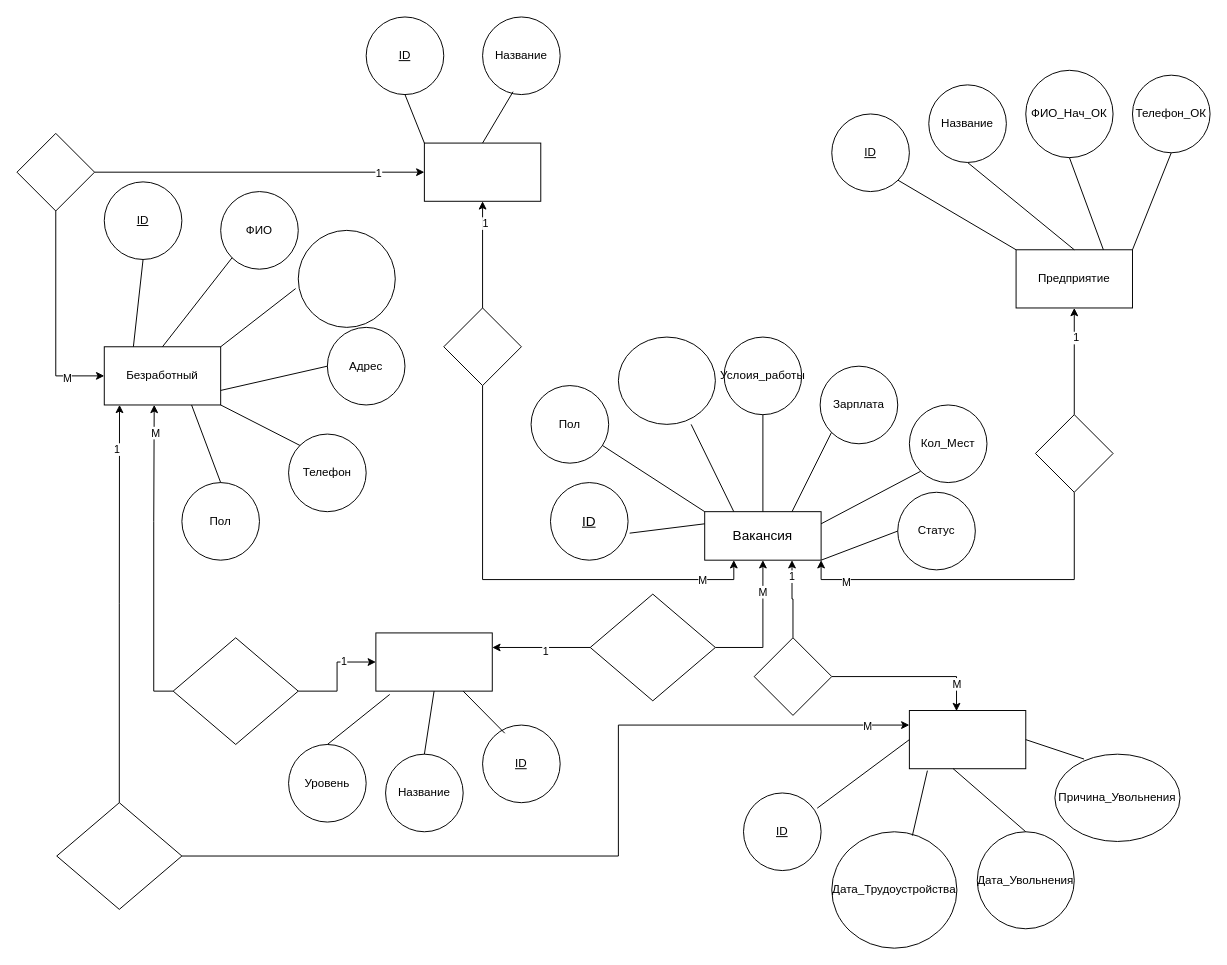
Image size: 1227x965. Some labels were removed from this diagram. Each missing label, with the box of its shape:
Возраст_Границы: (617, 336, 715, 424)
Дата_Рождения: (297, 229, 395, 327)
Должность: (423, 142, 541, 201)
Желает: (16, 132, 95, 211)
Закрывает: (753, 637, 832, 715)
Имеет: (1035, 414, 1113, 492)
Имеет_Образование: (172, 637, 298, 744)
Мин_Образование: (589, 593, 715, 701)
Образование: (375, 632, 492, 691)
Требует: (443, 307, 521, 386)
Трудоустраивается: (56, 802, 182, 909)
Трудоустройсто: (908, 710, 1026, 769)
